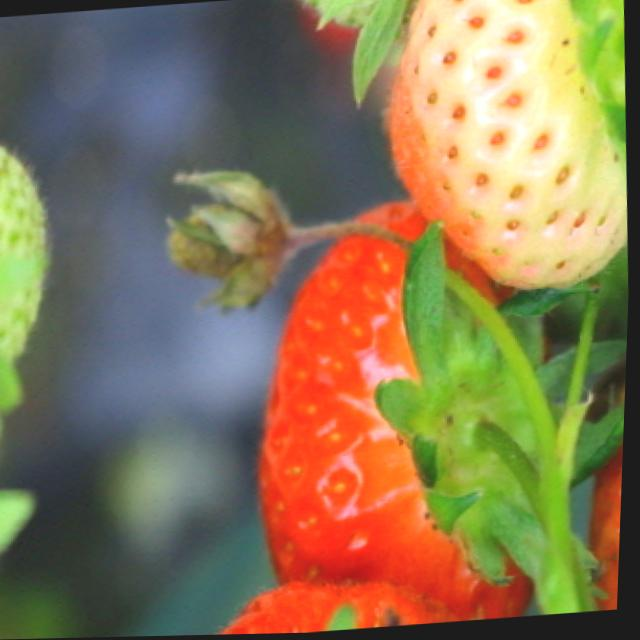Gray Mold: (158, 168, 328, 314)
